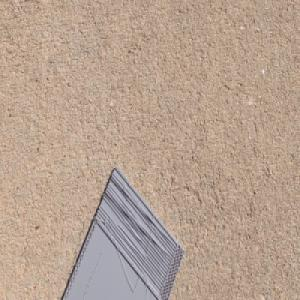PlasticPart: (58, 164, 186, 300)
